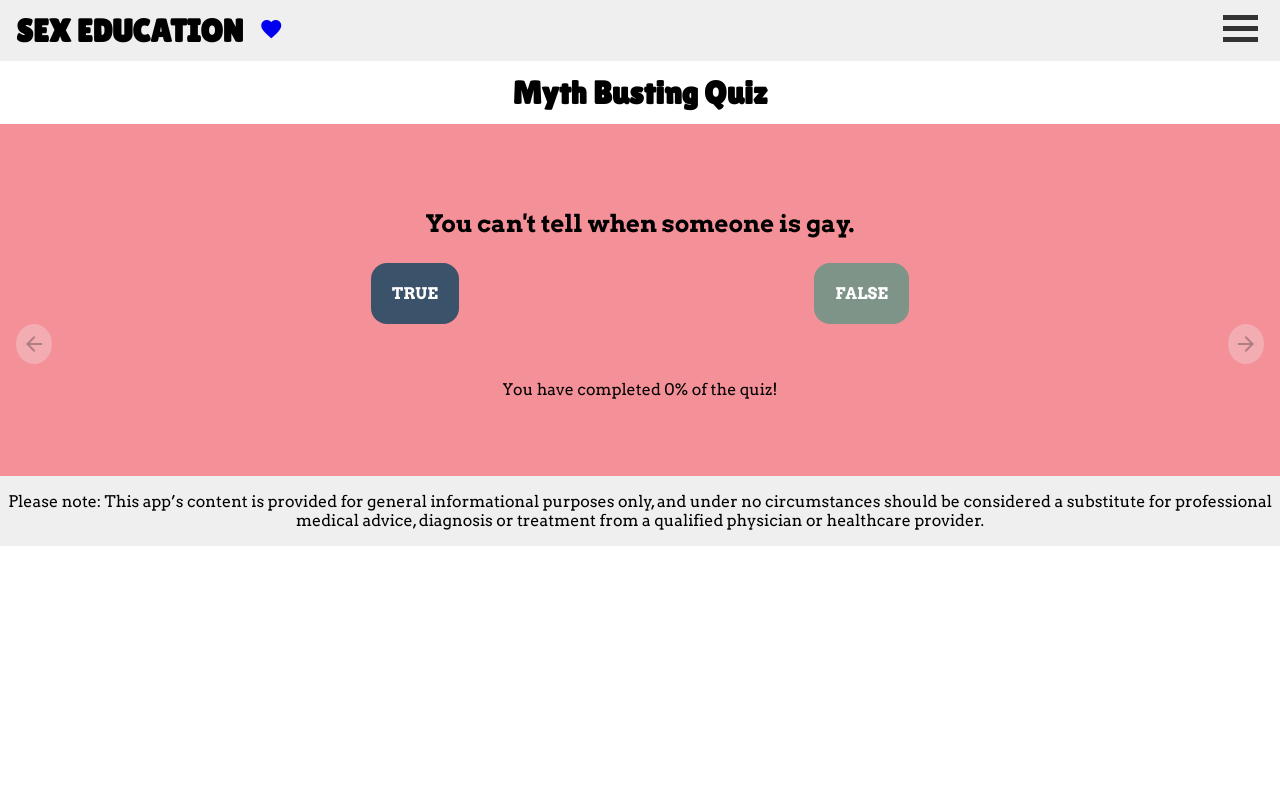
Test: Quiz › Should be able to click the true button, get the result and answer
The width and height of the screenshot is (1280, 800).
Click the radio button with class "true-label" at x=415, y=294, box [371, 263, 459, 324]
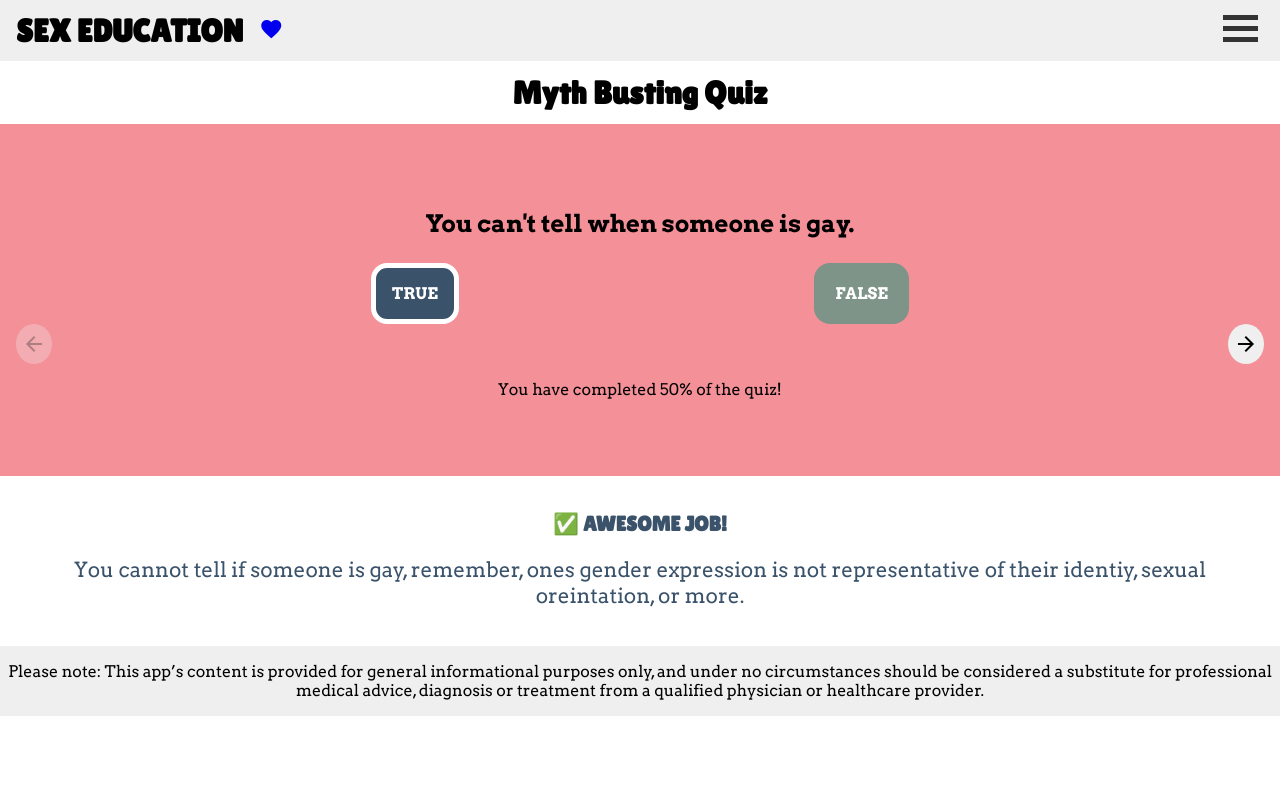
Expected: the text "You cannot tell if someone is gay, remember, ones gender expression is not representative of their identiy, sexual orein" is shown, [74, 557, 1206, 608]
